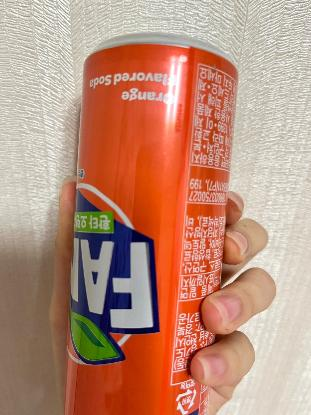Can: (57, 30, 244, 415)
